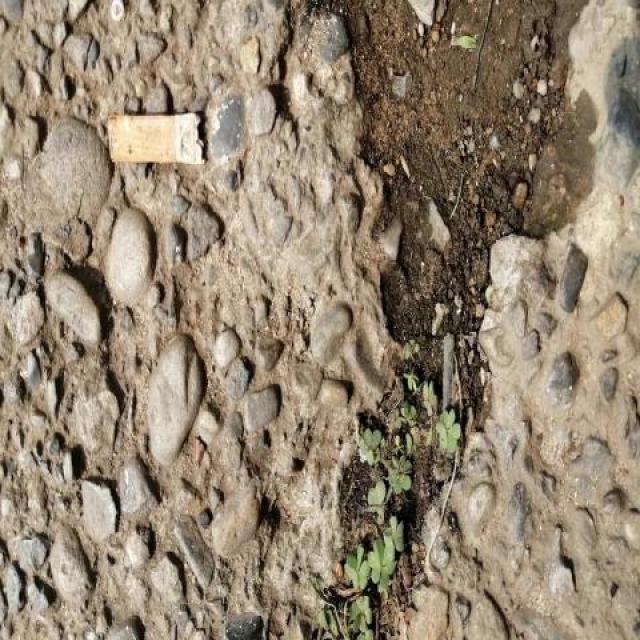non-organic waste: (104, 104, 213, 168)
